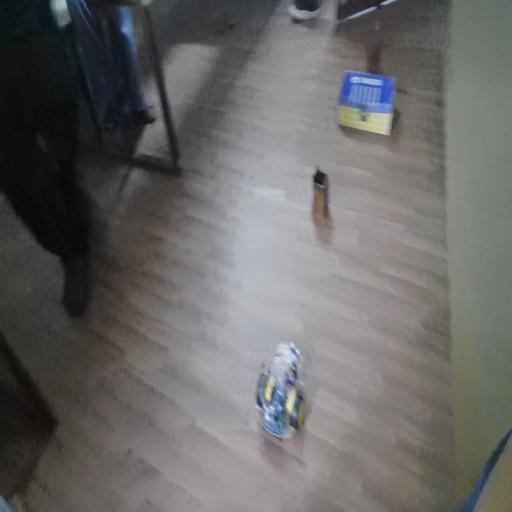car: (254, 341, 322, 439)
